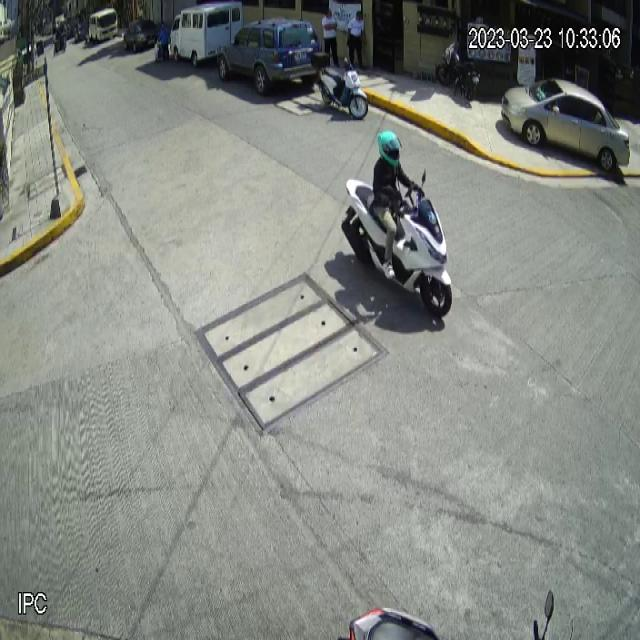Car: (501, 77, 632, 172), (216, 18, 322, 96)
Motorcycle: (340, 168, 452, 319), (311, 51, 370, 120)
Van: (170, 1, 244, 70)
